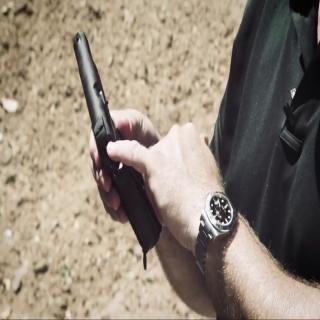gun: (70, 23, 164, 273)
